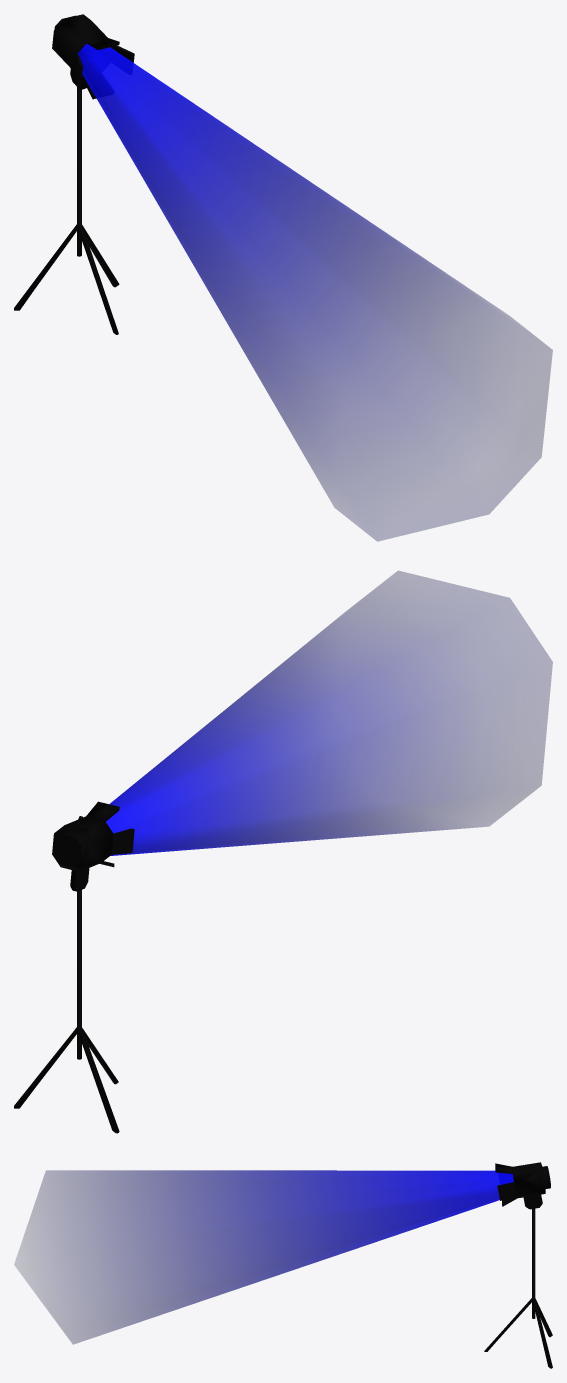
File: LightingStandOnBlue.glb
The picture shows the model from 3 angles, top to bottom: view 1: azimuth 30°, elevation 25°; view 2: azimuth 150°, elevation 25°; view 3: azimuth 270°, elevation 25°; orthographic projection. The views are drawn at different scales.
Parts seen in each view (by area): view 1: LightingStandOnBlue; view 2: LightingStandOnBlue; view 3: LightingStandOnBlue.
Part boxes in pixels (box(x1,y1,x2,y2)): LightingStandOnBlue: box(14, 14, 552, 541); LightingStandOnBlue: box(14, 571, 552, 1133); LightingStandOnBlue: box(14, 1162, 552, 1368).
Size of the model in its own units: 2.58 by 3.41 by 8.91.
2 materials, 2 textured.
